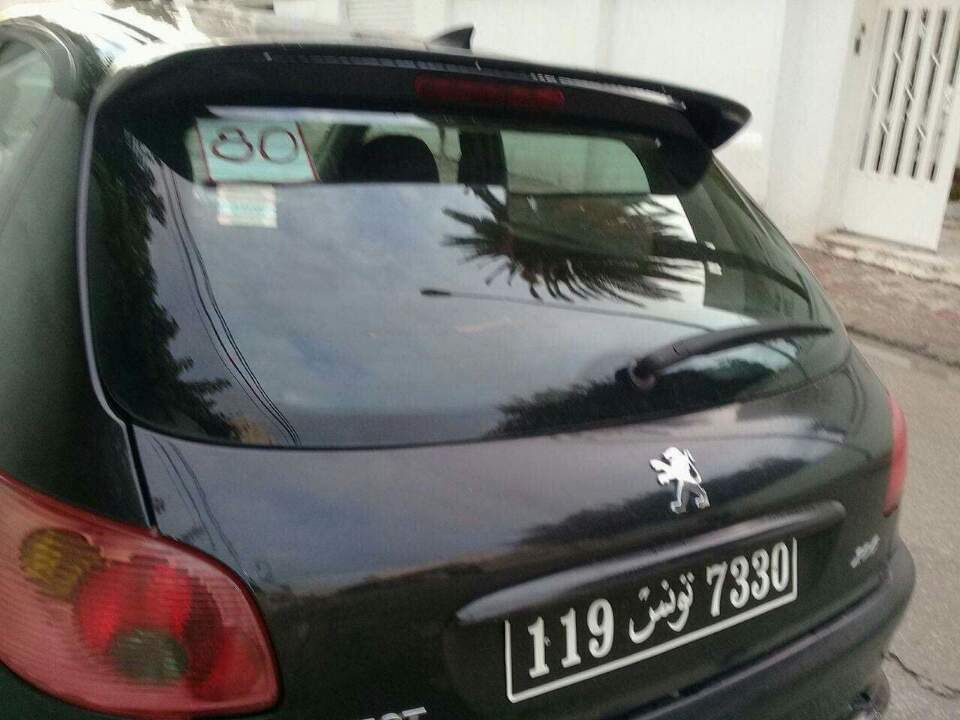LP: (508, 535, 803, 707)
